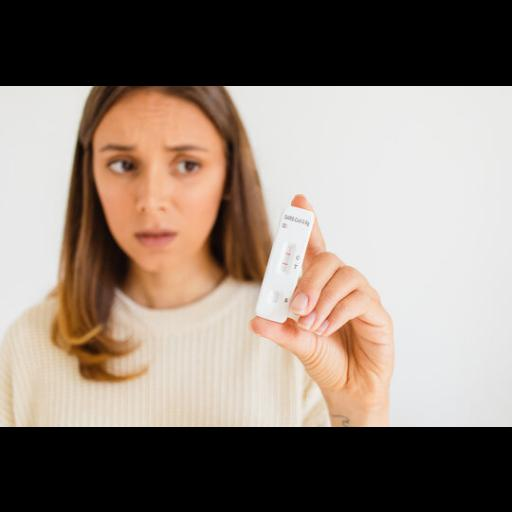Pos: (254, 204, 316, 324)
